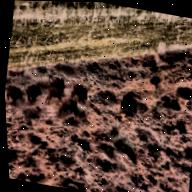boar: (18, 74, 46, 105), (66, 75, 94, 103), (53, 95, 82, 122), (116, 89, 141, 119), (4, 77, 23, 108), (45, 81, 64, 104)
